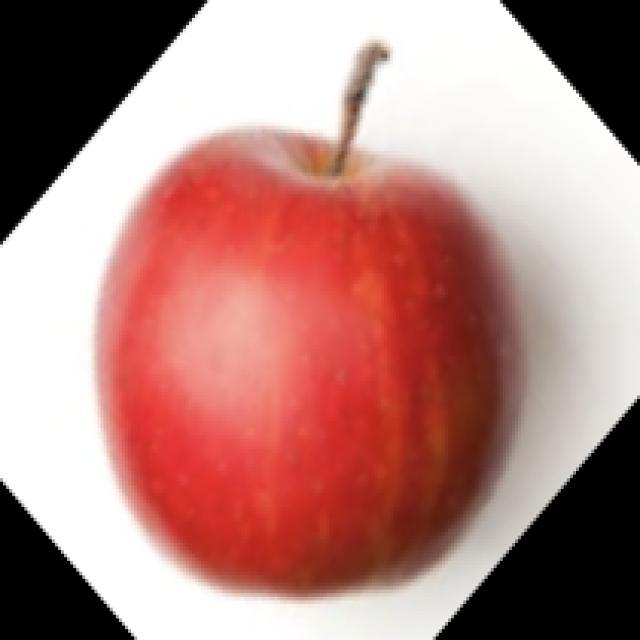Apple: (93, 40, 503, 591)
